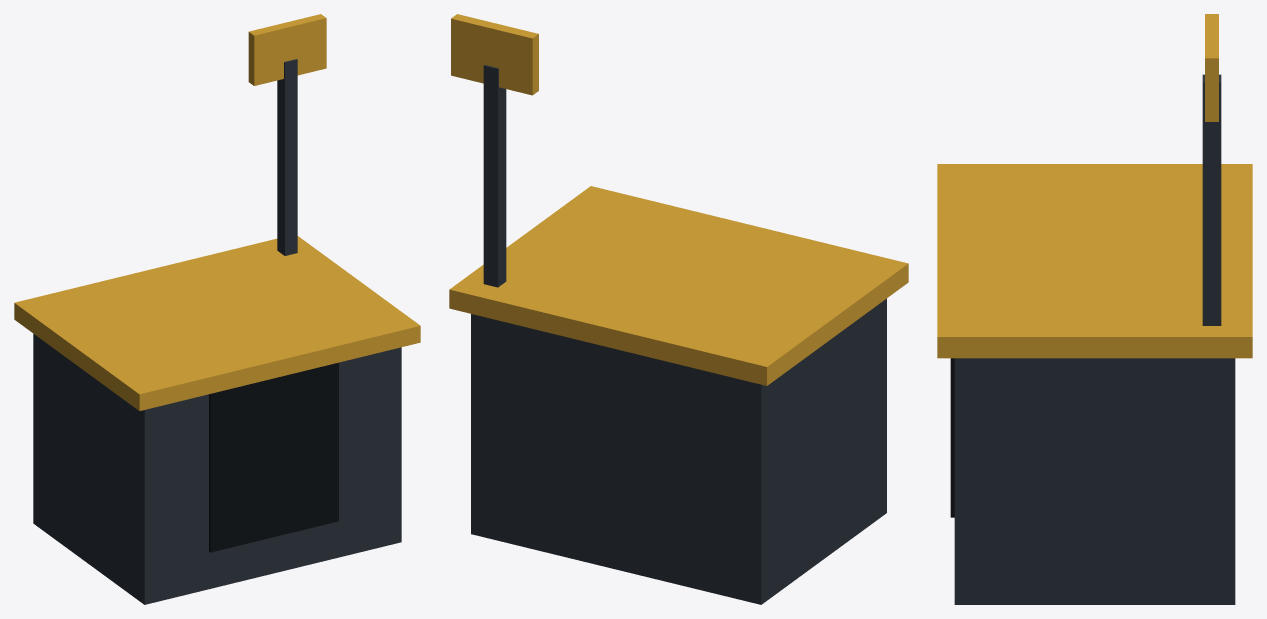
The model's file is mobile-low.glb.
3 views of the same model, side by side, from view 1: azimuth 30°, elevation 25°; view 2: azimuth 150°, elevation 25°; view 3: azimuth 270°, elevation 25° (orthographic). The views are drawn at different scales.
Visible parts, largest first — view 1: transit-entrance; view 2: transit-entrance; view 3: transit-entrance.
Part boxes in pixels (x1,y1,x2,y2): transit-entrance: [14, 14, 420, 604]; transit-entrance: [449, 14, 908, 604]; transit-entrance: [937, 14, 1252, 604].
Size of the model in its own units: 3.65 by 5.3 by 2.7.
